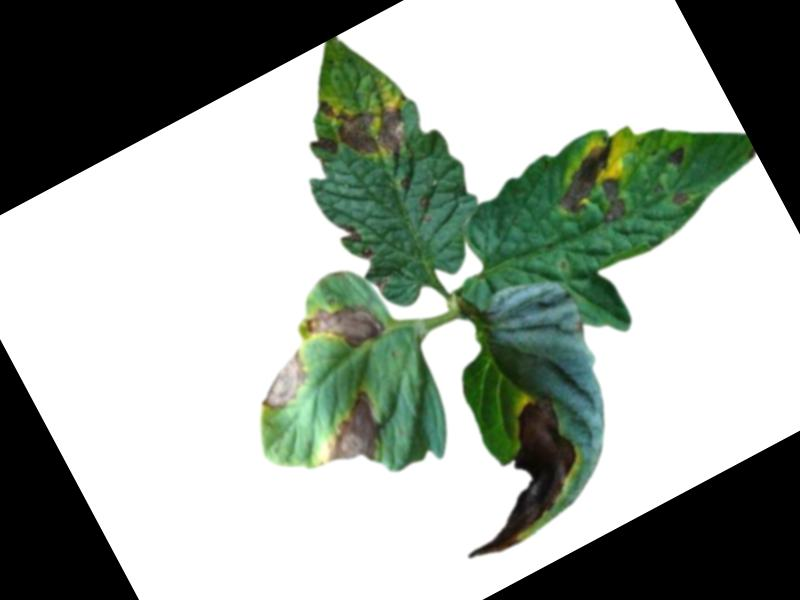Early_blight: (417, 392, 603, 567), (314, 70, 420, 179), (544, 135, 648, 240), (302, 391, 395, 482), (299, 286, 388, 369), (245, 349, 318, 417), (336, 216, 376, 267), (308, 128, 341, 162), (662, 145, 689, 171), (669, 189, 693, 211)
